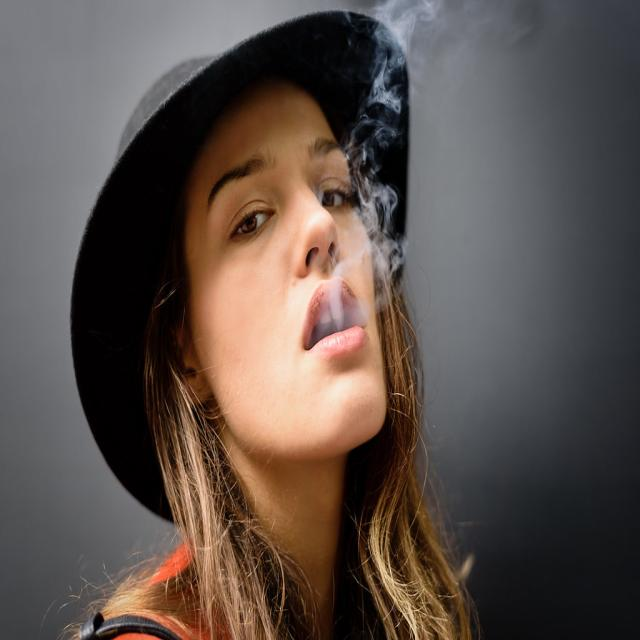hat: (70, 10, 410, 472)
